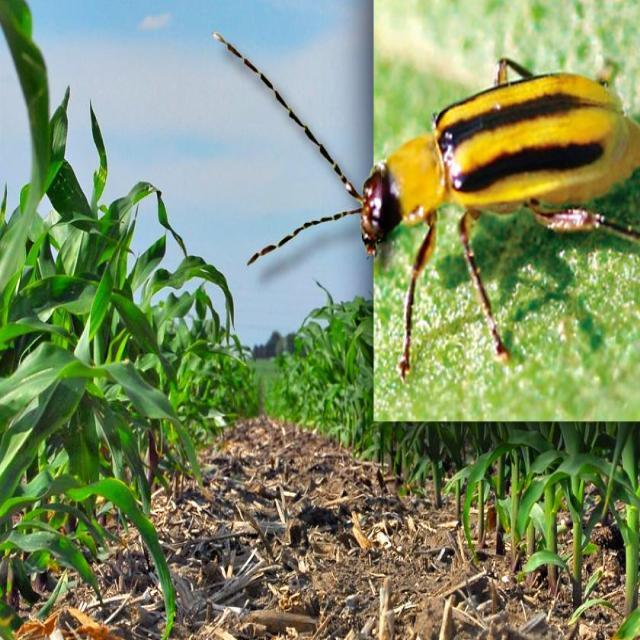trips: (216, 31, 640, 332)
